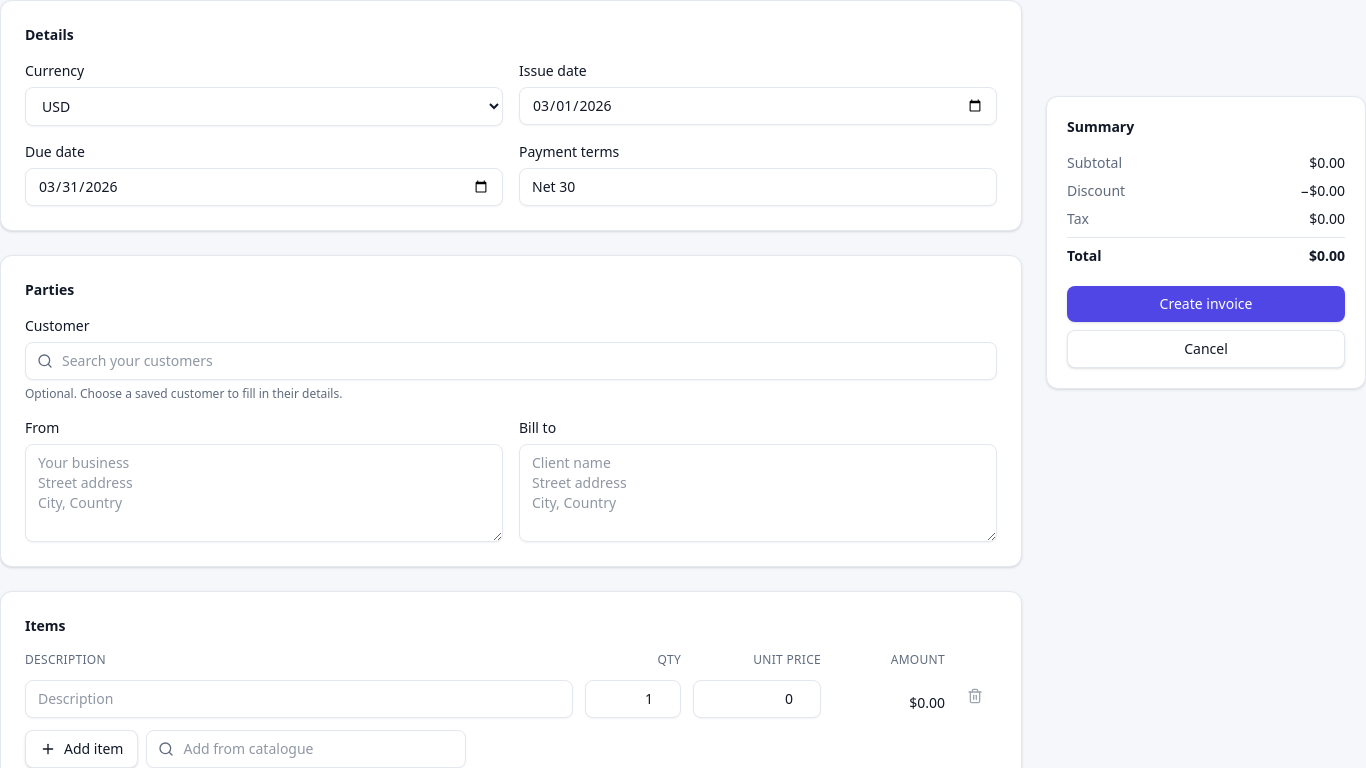
InvoiceForm › shows validation errors instead of submitting an incomplete invoice
The width and height of the screenshot is (1366, 768).
Click the button "Create invoice".
click(1206, 304)  # box x1=1067 y1=286 x2=1345 y2=322
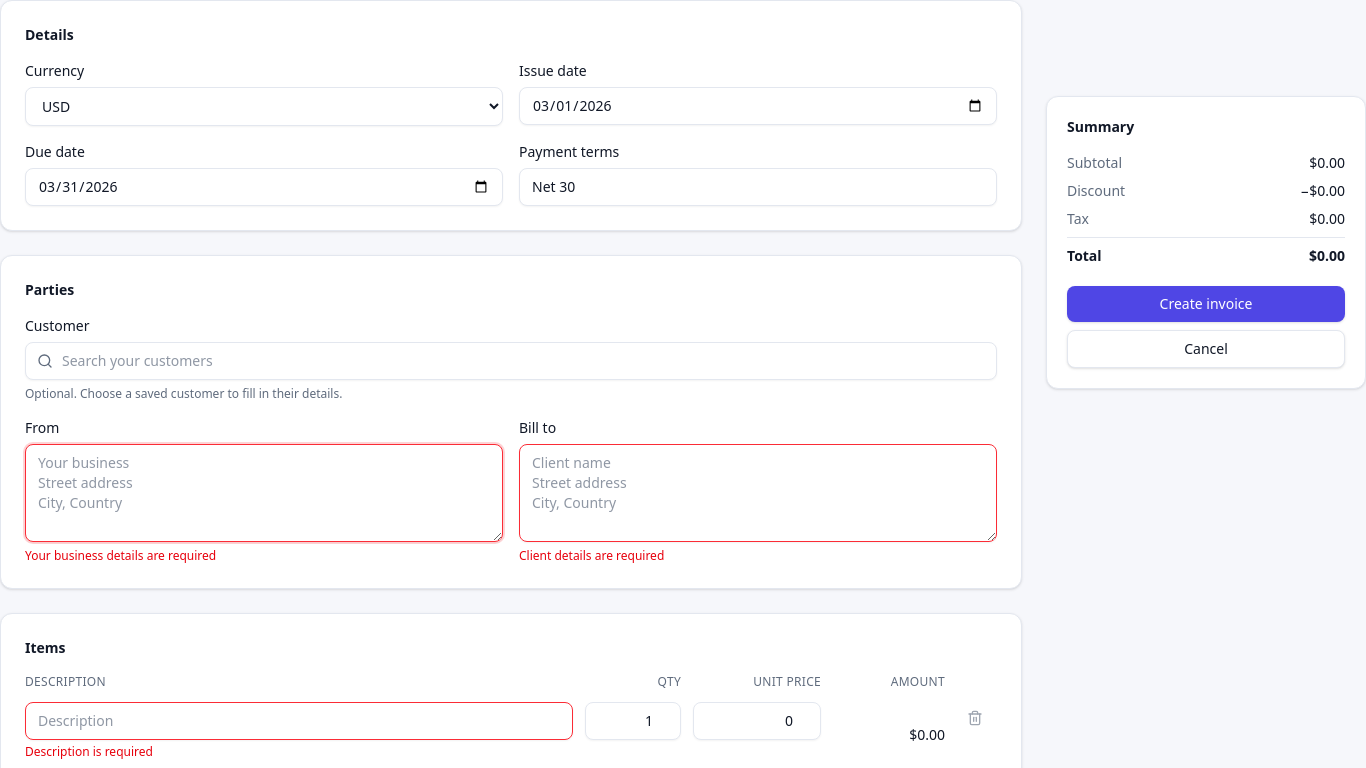
Expected: the text "Your business details are required" is shown, x1=25 y1=547 x2=216 y2=564
Expected: the text "Description is required" is shown, x1=25 y1=743 x2=153 y2=760
